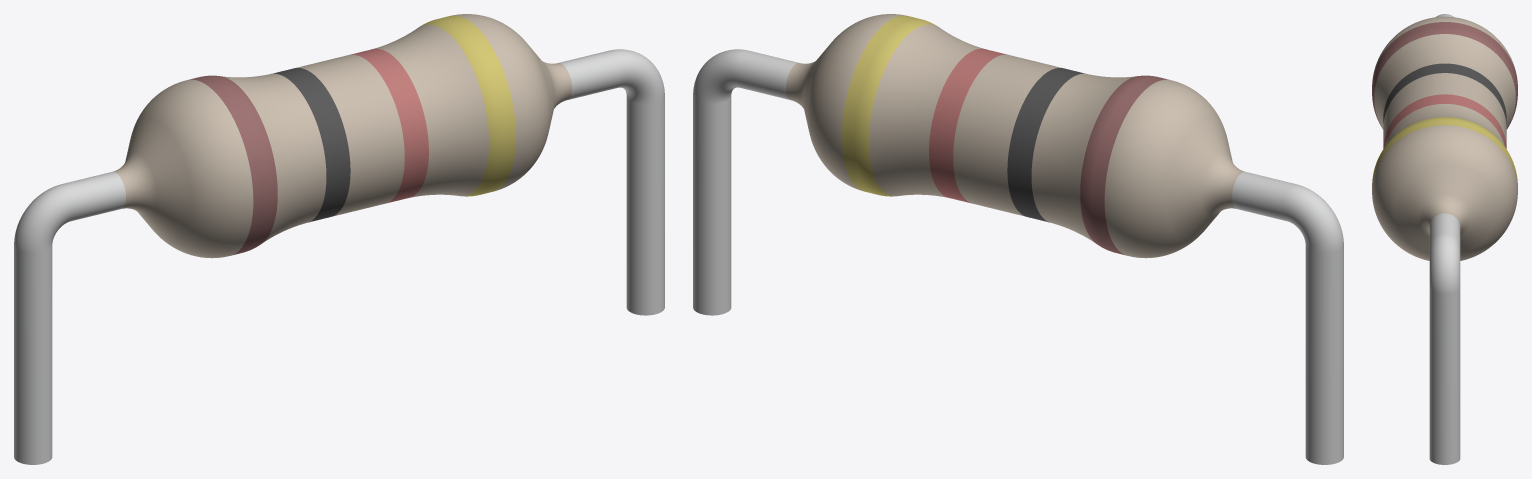
File: Resistor.gltf
3 renders of one model, left to right at view 1: azimuth 30°, elevation 25°; view 2: azimuth 150°, elevation 25°; view 3: azimuth 270°, elevation 25°, orthographic. The views are drawn at different scales.
Parts seen in each view (by area): view 1: RES-0.25W-H-CF-13|:|B8A4396250C5687B1D31E70758B30729E1AC4426, RES-0.25W-H-CF-13|:|C906BBC760572095F726B39B13C9EDE80CDE5667, RES-0.25W-H-CF-13|:|62A847F87F404A1386DF7AE3239C498F49D94DDE; view 2: RES-0.25W-H-CF-13|:|B8A4396250C5687B1D31E70758B30729E1AC4426, RES-0.25W-H-CF-13|:|C906BBC760572095F726B39B13C9EDE80CDE5667, RES-0.25W-H-CF-13|:|62A847F87F404A1386DF7AE3239C498F49D94DDE; view 3: RES-0.25W-H-CF-13|:|B8A4396250C5687B1D31E70758B30729E1AC4426, RES-0.25W-H-CF-13|:|62A847F87F404A1386DF7AE3239C498F49D94DDE.
Boxes of the visible parts, left/top/right/bottom form: RES-0.25W-H-CF-13|:|B8A4396250C5687B1D31E70758B30729E1AC4426: left=113, top=14, right=571, bottom=258; RES-0.25W-H-CF-13|:|C906BBC760572095F726B39B13C9EDE80CDE5667: left=14, top=171, right=125, bottom=464; RES-0.25W-H-CF-13|:|62A847F87F404A1386DF7AE3239C498F49D94DDE: left=559, top=49, right=664, bottom=315; RES-0.25W-H-CF-13|:|B8A4396250C5687B1D31E70758B30729E1AC4426: left=786, top=14, right=1244, bottom=258; RES-0.25W-H-CF-13|:|C906BBC760572095F726B39B13C9EDE80CDE5667: left=1232, top=171, right=1343, bottom=464; RES-0.25W-H-CF-13|:|62A847F87F404A1386DF7AE3239C498F49D94DDE: left=693, top=49, right=798, bottom=315; RES-0.25W-H-CF-13|:|B8A4396250C5687B1D31E70758B30729E1AC4426: left=1372, top=16, right=1517, bottom=260; RES-0.25W-H-CF-13|:|62A847F87F404A1386DF7AE3239C498F49D94DDE: left=1429, top=213, right=1460, bottom=464.
Size of the model in its own units: 0.0389 by 0.0189 by 0.00945.
